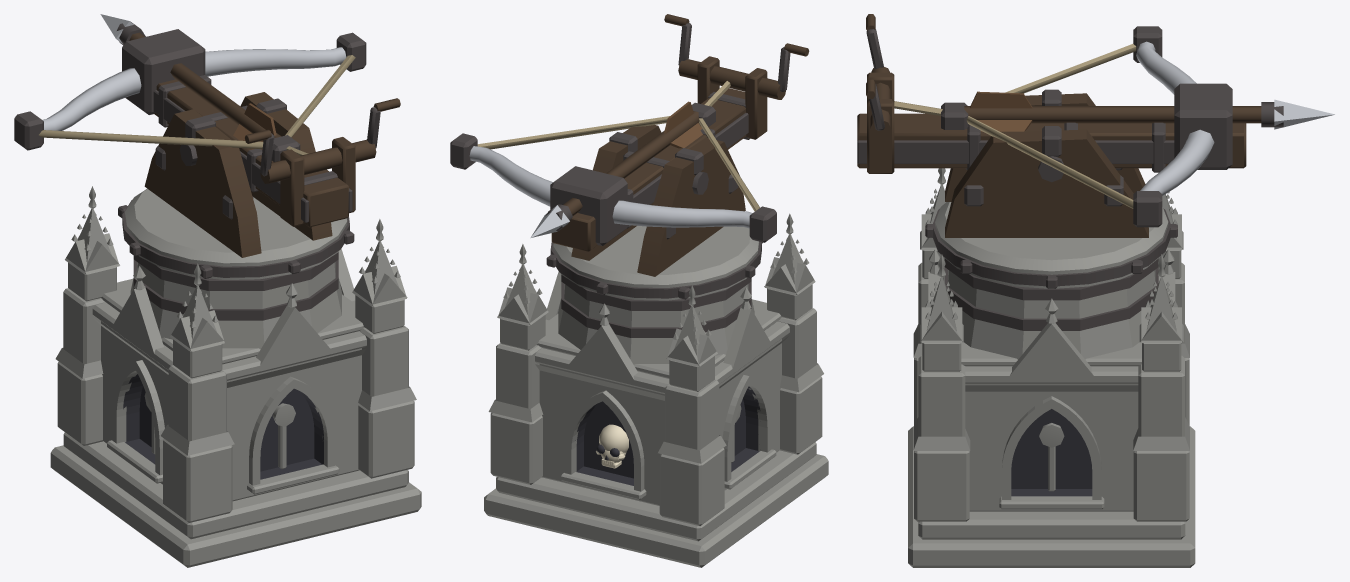
Rendered from tower_ballista_1.glb.
3 renders of one model, left to right at view 1: azimuth 30°, elevation 25°; view 2: azimuth 150°, elevation 25°; view 3: azimuth 270°, elevation 25°, orthographic. The views are drawn at different scales.
Visible parts, largest first — view 1: tower, turret; view 2: tower, turret; view 3: tower, turret.
Part boxes in pixels (<box>): tower: <box>50,186,421,567</box>; turret: <box>14,14,400,279</box>; tower: <box>484,213,828,567</box>; turret: <box>450,14,809,300</box>; tower: <box>908,168,1195,567</box>; turret: <box>857,14,1334,288</box>.
Size of the model in its own units: 2.44 by 2.98 by 2.83.
